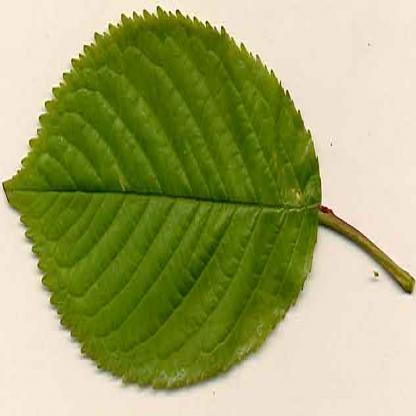Cherry leaf: (1, 7, 357, 404)
